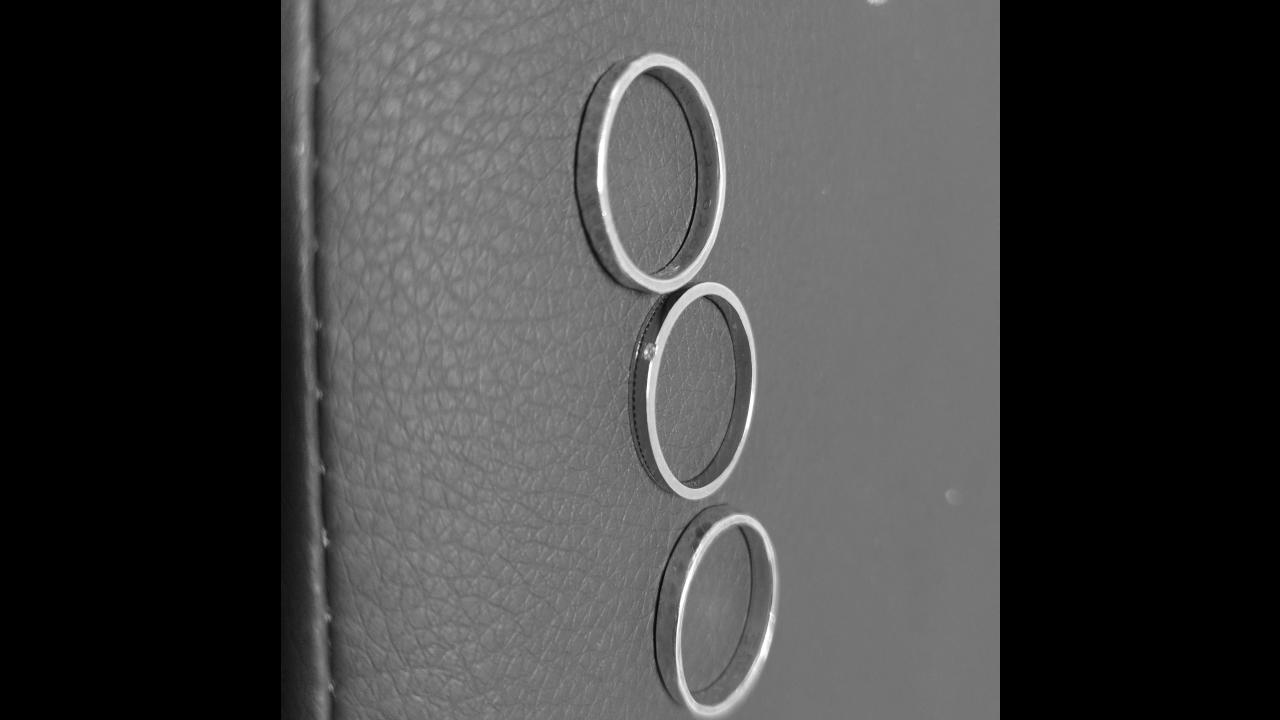ring: (574, 48, 728, 300), (629, 282, 757, 498), (653, 503, 779, 720)
